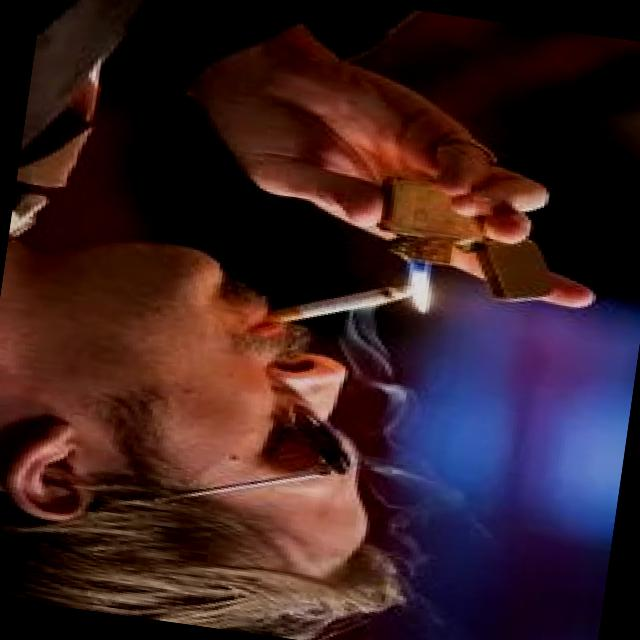cigarette: (255, 264, 418, 344)
